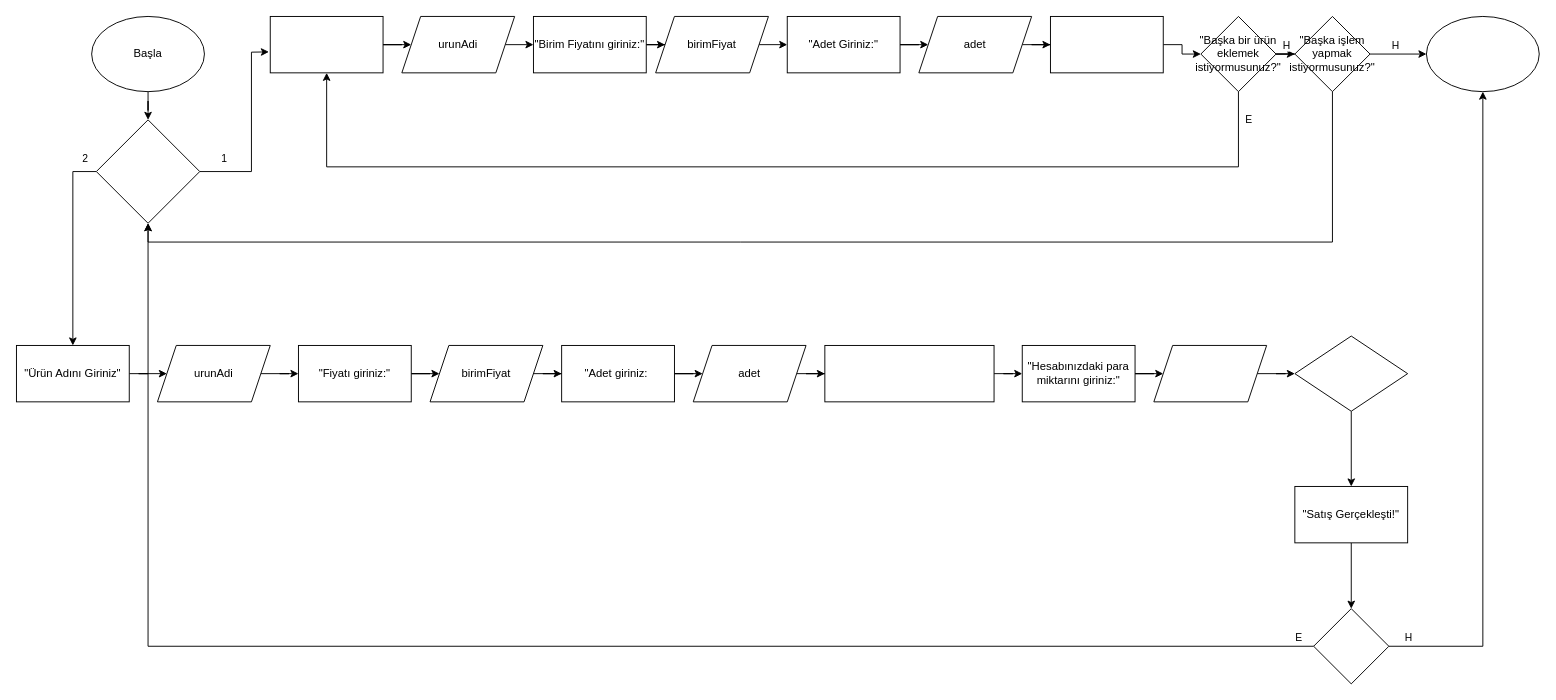
Some shapes in this 1556 by 700 pixel diagram are drawn without their labels. The shapes that lost their labels are listed below. From the top down, each one's centre as x and y in pixels, then its label:
point (326, 44): "Ürün Adını Giriniz
point (1106, 44): "Ürün Eklendi!"
point (1482, 54): Bitir
point (147, 171): Hangi işlemi yapmak istiyorsunuz? 1-)Ürün Ekle 2-)Satış yap
point (909, 373): toplamFiyat=birimFiyat*adet
point (1210, 373): para
point (1351, 373): toplamFiyat>=para
point (1351, 646): "Başka işlem yapmak istiyormusunuz!"
